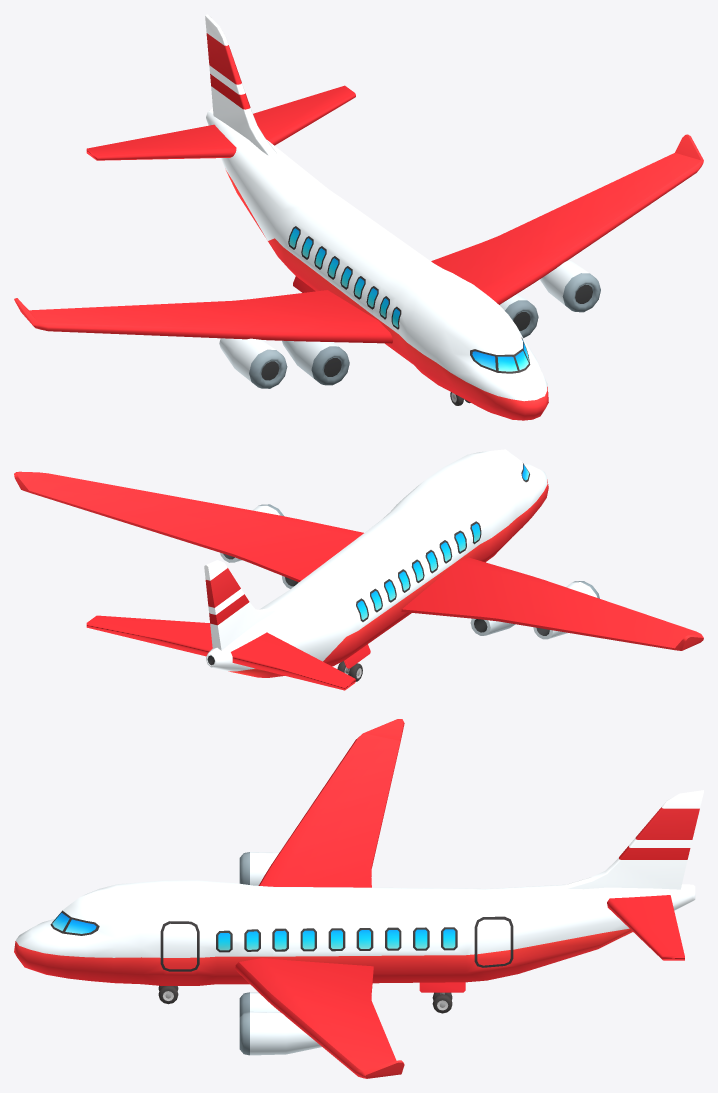
3 views of the same model, one above another, from view 1: azimuth 30°, elevation 25°; view 2: azimuth 150°, elevation 25°; view 3: azimuth 270°, elevation 25° (orthographic). The views are drawn at different scales.
Visible parts, largest first — view 1: Plane_01; view 2: Plane_01; view 3: Plane_01.
Part boxes in pixels (x1,y1,x2,y2): Plane_01: [14, 14, 703, 420]; Plane_01: [14, 449, 703, 690]; Plane_01: [14, 719, 703, 1078].
Size of the model in its own units: 33.7 by 9.6 by 28.58.
1 material, 1 textured.
